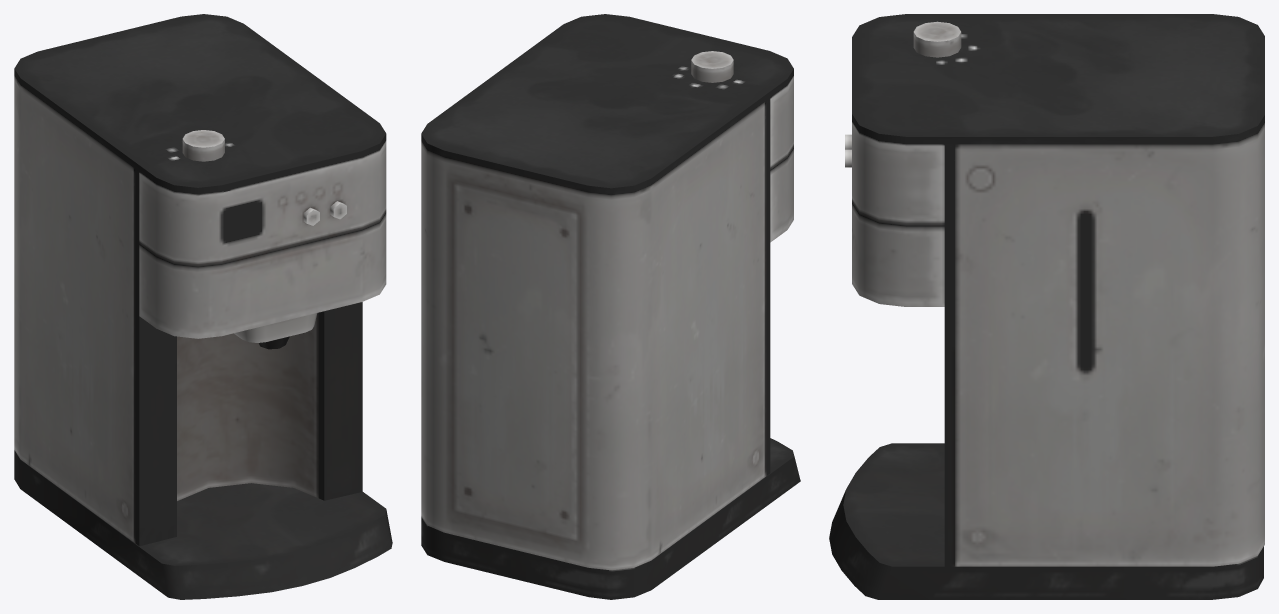
File: SM_CoffeeMachine.fbx
3 renders of one model, left to right at view 1: azimuth 30°, elevation 25°; view 2: azimuth 150°, elevation 25°; view 3: azimuth 270°, elevation 25°, orthographic. The views are drawn at different scales.
Visible parts, largest first — view 1: SM_CoffeeMachine_LOD0; view 2: SM_CoffeeMachine_LOD0; view 3: SM_CoffeeMachine_LOD0.
Boxes of the visible parts, x1,y1,x2,y2 form: SM_CoffeeMachine_LOD0: (14, 14, 392, 599); SM_CoffeeMachine_LOD0: (421, 14, 800, 599); SM_CoffeeMachine_LOD0: (829, 14, 1264, 599).
Size of the model in its own units: 31.26 by 46.61 by 56.51.
